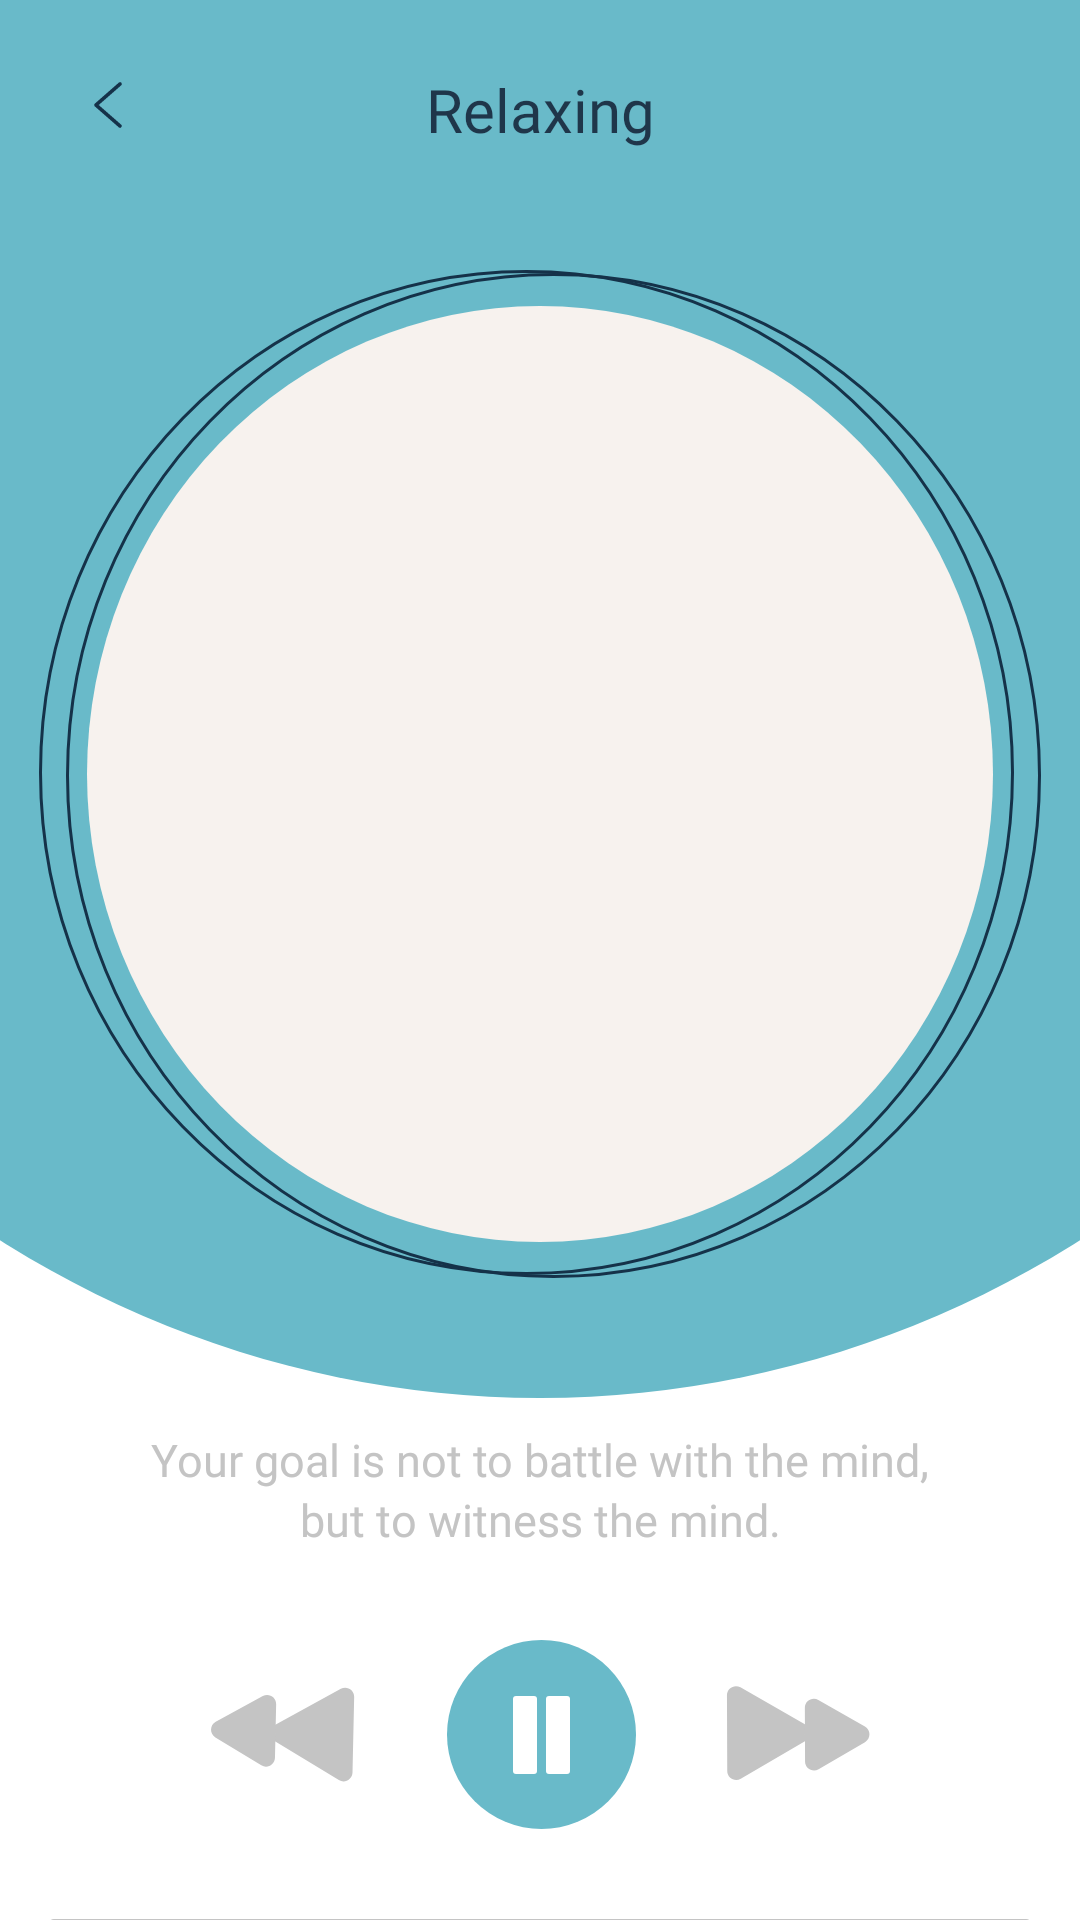

Screen size 1080w x 1920h. Icon name, then its box in pixels as (x1=x1, y1=y1, x2=x2, y2=y2):
arrow: (x1=94, y1=82, x2=122, y2=128)
next: (x1=727, y1=1686, x2=869, y2=1780)
pause: (x1=513, y1=1696, x2=570, y2=1774)
previous: (x1=211, y1=1688, x2=354, y2=1782)
